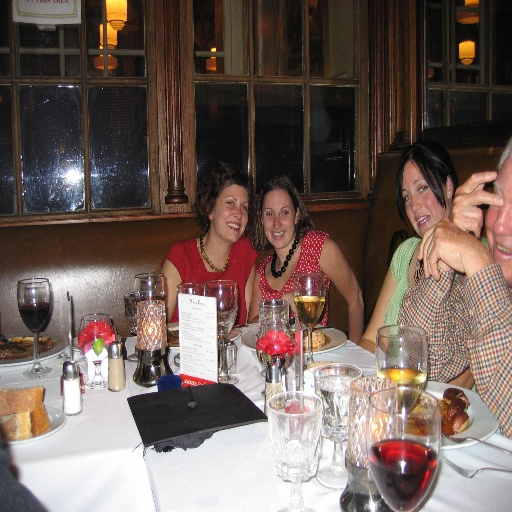hand: (417, 215, 490, 282), (461, 161, 498, 234)
